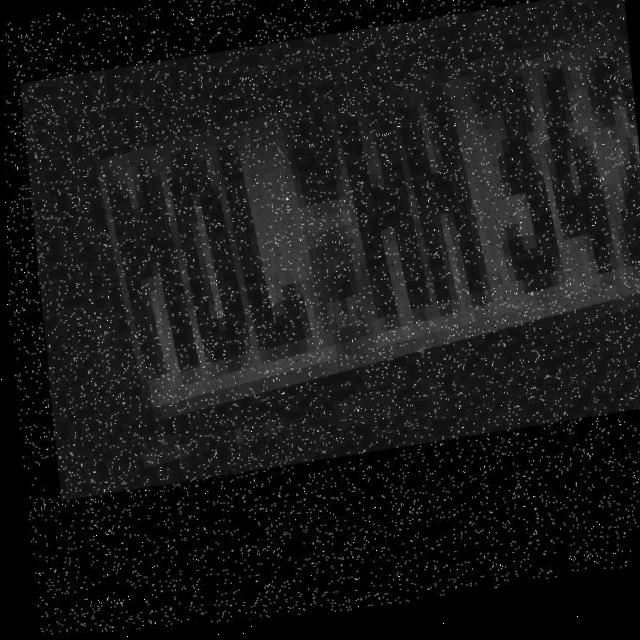LicensePlate: (18, 0, 640, 503)
